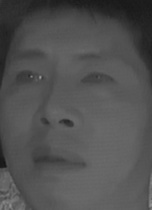eye: (11, 65, 48, 90), (78, 68, 118, 90)
mouth: (30, 141, 86, 180)
